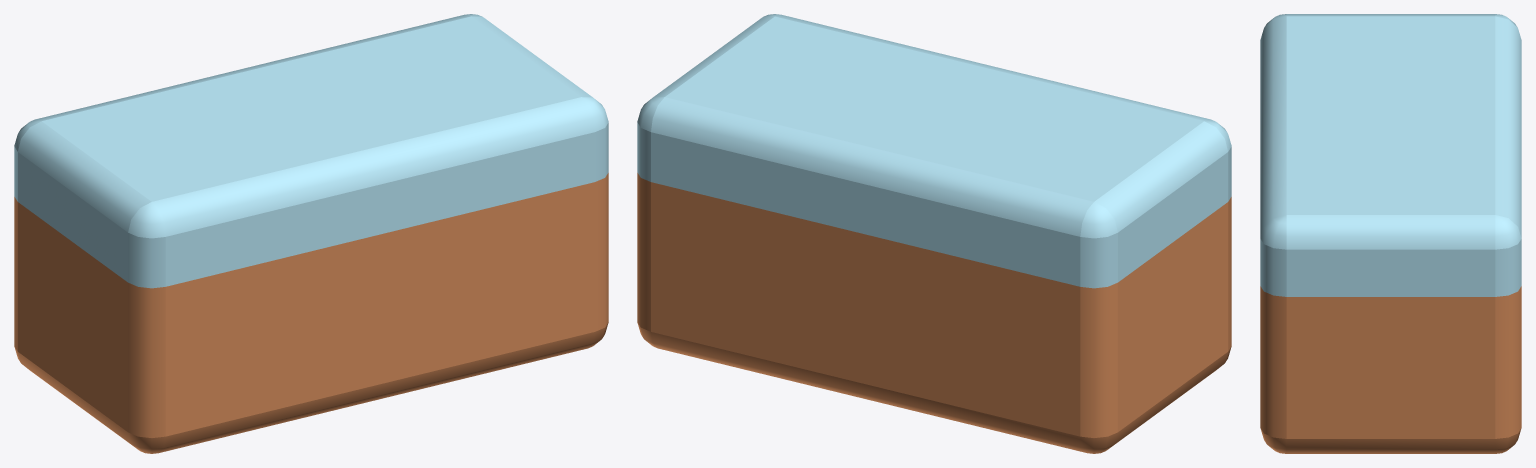
Rendered from blockSnowRoundedLong.glb.
3 views of the same model, side by side, from view 1: azimuth 30°, elevation 25°; view 2: azimuth 150°, elevation 25°; view 3: azimuth 270°, elevation 25° (orthographic). The views are drawn at different scales.
Parts seen in each view (by area): view 1: blockSnowRoundedLong; view 2: blockSnowRoundedLong; view 3: blockSnowRoundedLong.
Boxes of the visible parts, x1,y1,x2,y2 form: blockSnowRoundedLong: (14, 14, 608, 453); blockSnowRoundedLong: (637, 14, 1231, 453); blockSnowRoundedLong: (1260, 14, 1521, 453).
Size of the model in its own units: 2 by 1 by 1.
